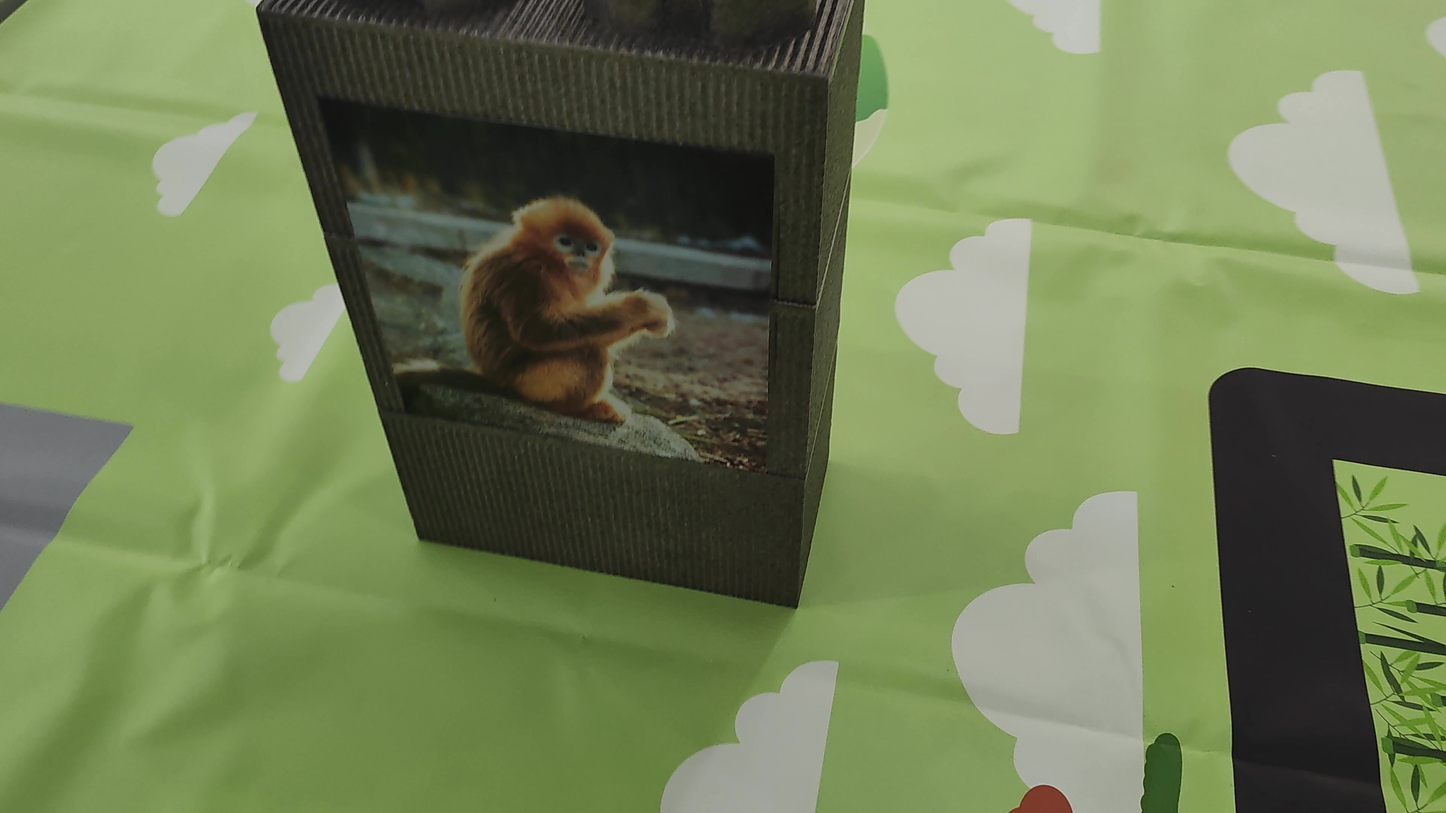monkey: (411, 154, 721, 438)
